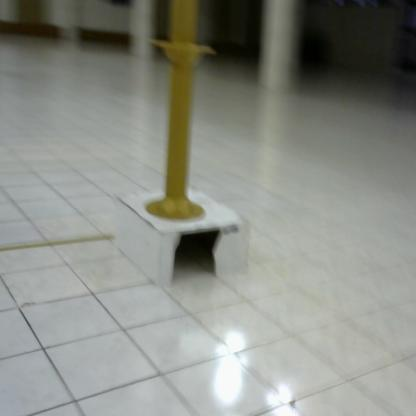pole: (141, 1, 222, 233)
